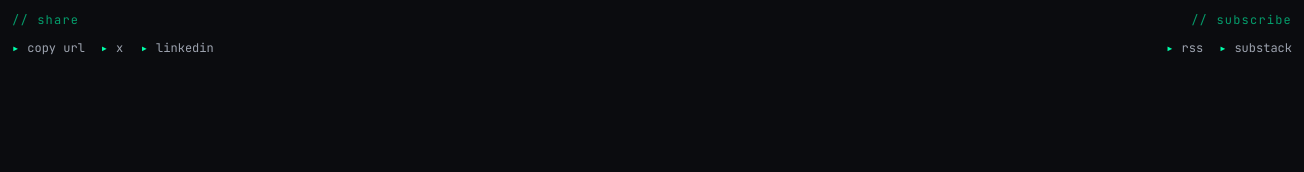
Test case: PostShare › copies the canonical production URL and confirms briefly
What coordinates should you click on to do the following:
click the button "▸ copy url"
I would click on:
 (48, 48)
Its box is [12,36,85,60].
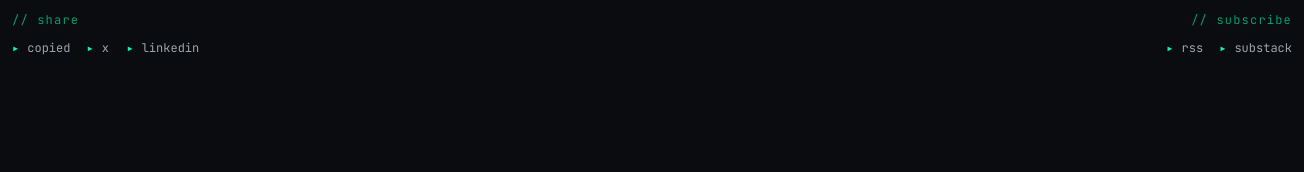
Expected: the button "▸ copied" is shown, [12,36,70,60]
